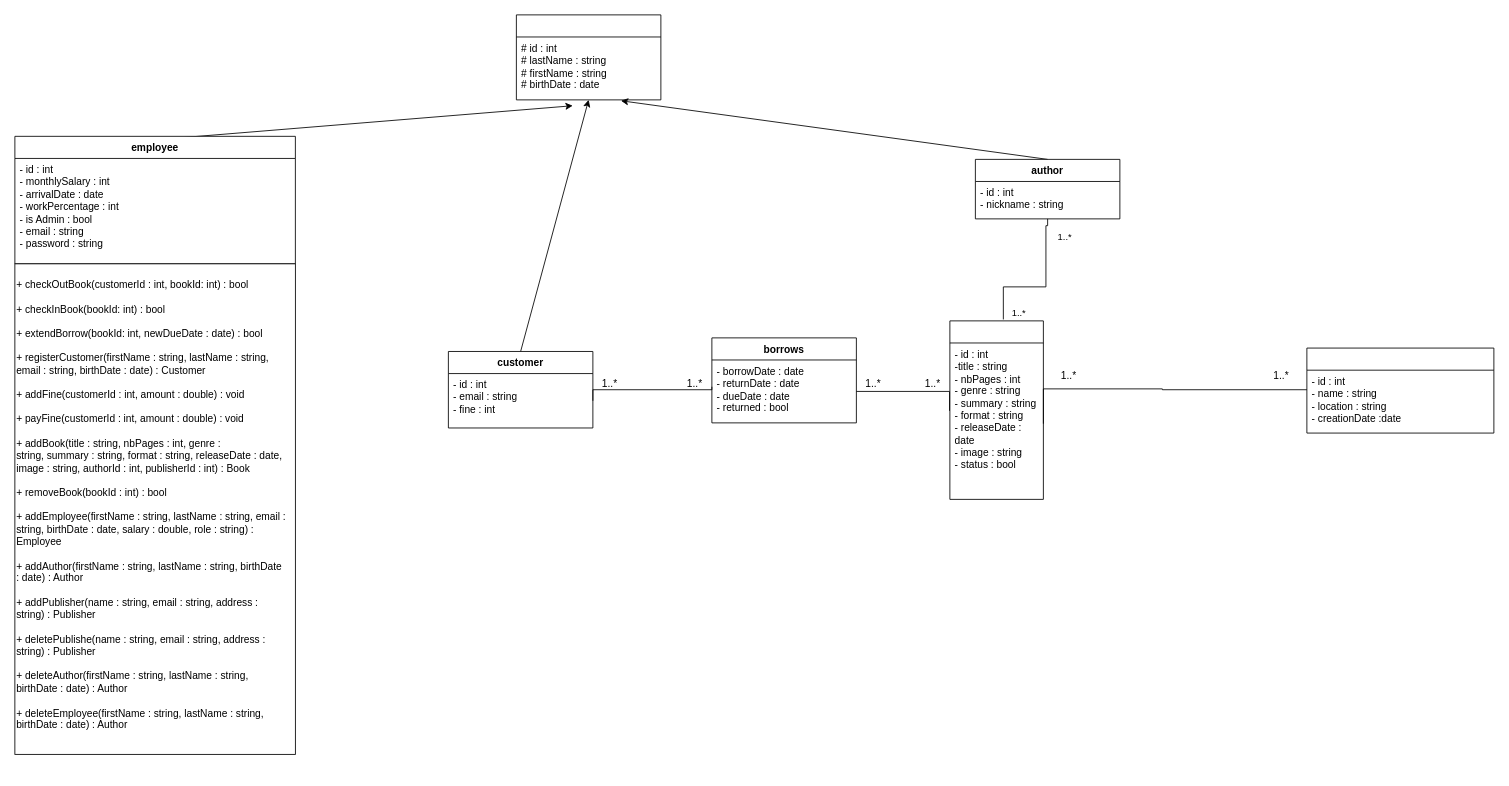
The diagram is 1509 pixels wide and 786 high, and some of its shapes have lost their labels. Here are the shapes that lost their labels. From the top down, the box of each, then its label:
(516, 14, 661, 100): person
(949, 320, 1043, 499): books
(1306, 347, 1494, 433): Publisher
